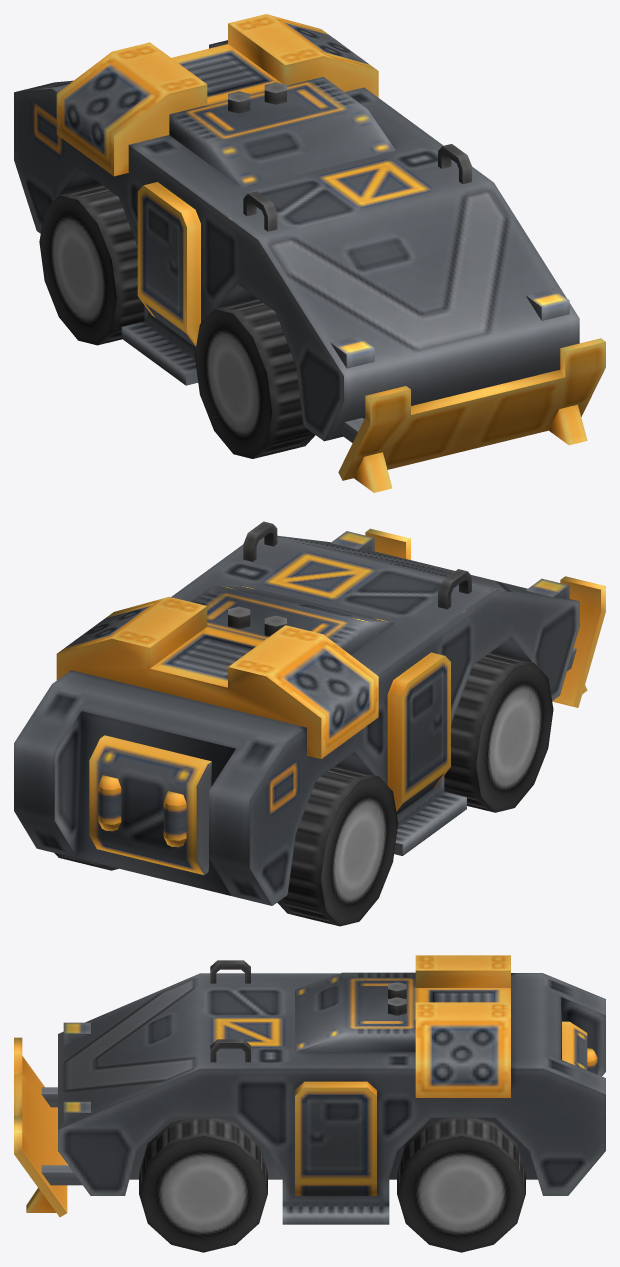
Rendered from Deflector.FBX.
3 renders of one model, top to bottom at view 1: azimuth 30°, elevation 25°; view 2: azimuth 150°, elevation 25°; view 3: azimuth 270°, elevation 25°, orthographic. The views are drawn at different scales.
Visible parts, largest first — view 1: Deflector, Deflector_Wheel_RF, Deflector_Wheel_RR; view 2: Deflector, Deflector_Wheel_RR, Deflector_Wheel_RF; view 3: Deflector, Deflector_Wheel_RL, Deflector_Wheel_FL.
Part boxes in pixels (left/top/right/bottom): Deflector: left=14, top=14, right=605, bottom=492; Deflector_Wheel_RF: left=194, top=298, right=315, bottom=458; Deflector_Wheel_RR: left=39, top=185, right=144, bottom=345; Deflector: left=14, top=521, right=605, bottom=905; Deflector_Wheel_RR: left=277, top=766, right=398, bottom=926; Deflector_Wheel_RF: left=444, top=652, right=553, bottom=812; Deflector: left=14, top=955, right=605, bottom=1224; Deflector_Wheel_RL: left=397, top=1118, right=525, bottom=1252; Deflector_Wheel_FL: left=139, top=1118, right=267, bottom=1252.
Size of the model in its own units: 408 by 349 by 894.
